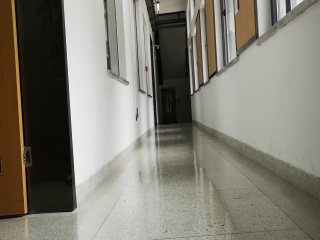room: (2, 2, 76, 214)
